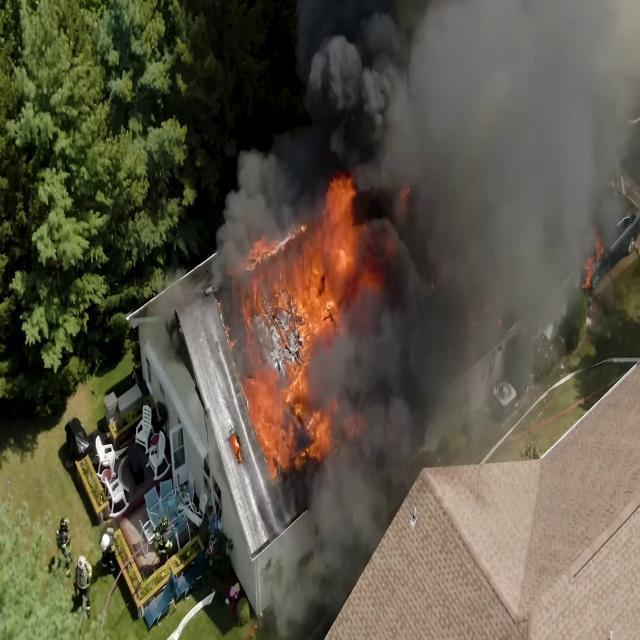Fire: (224, 180, 372, 340), (235, 359, 320, 479)
Smoke: (422, 0, 627, 214)
